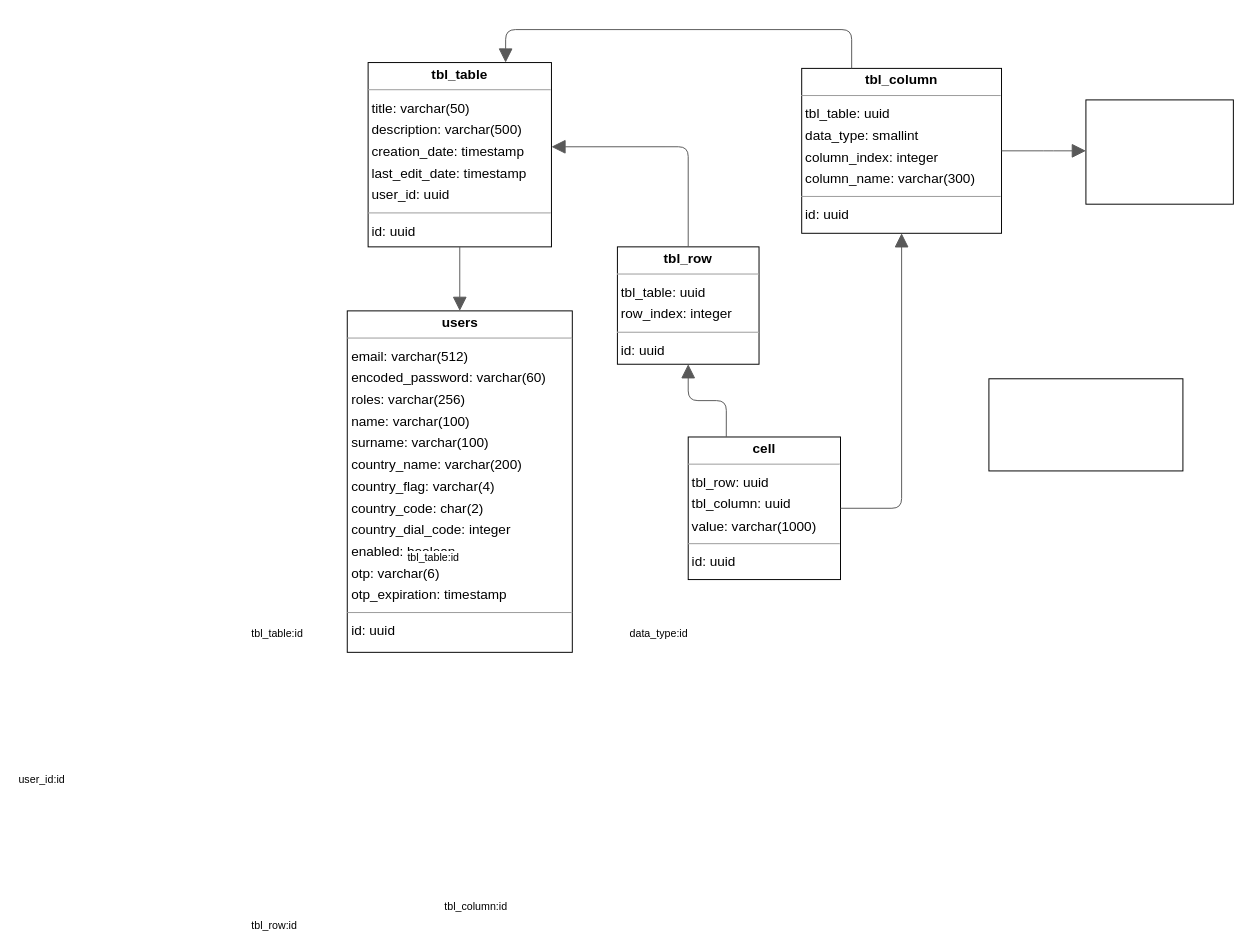
This 1250x950 diagram has some shape labels left out. Here are the shapes that lost their labels. From the top down, the box of each, then its label:
(1085, 99, 1233, 204): data_type name: varchar(500) id: smallint
(988, 378, 1183, 471): invalid_jwts expiration_date: timestamp token: varchar(500)
